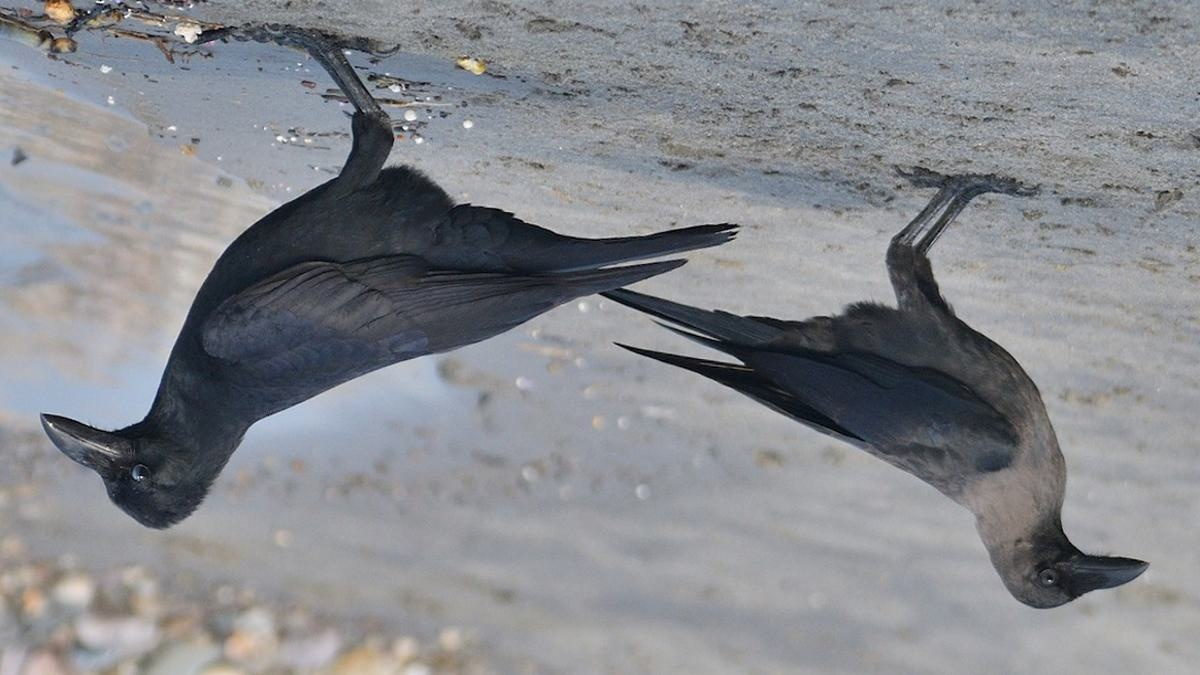crow: (36, 61, 746, 533), (646, 141, 1158, 610)
